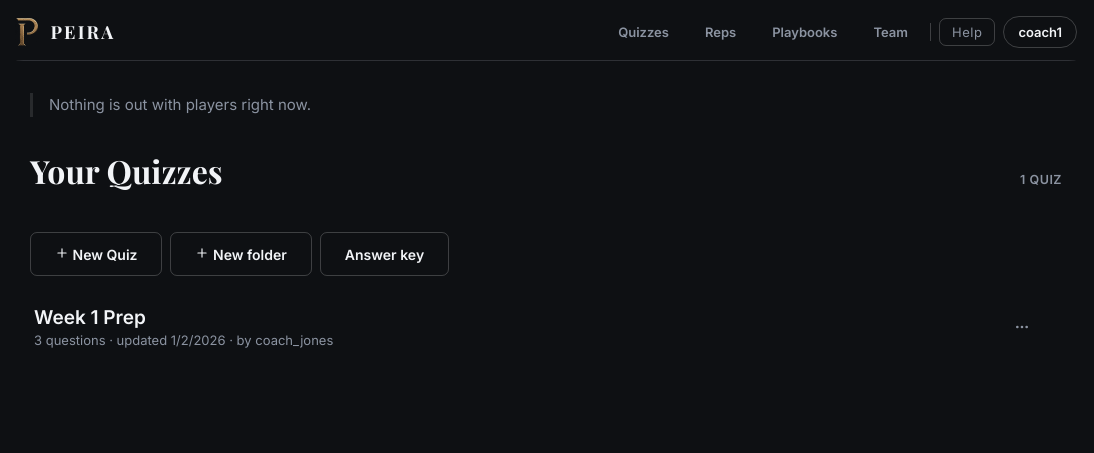
Test: DashboardPage › lets an admin edit a teammate's quiz
Check: the heading "Week 1 Prep" is shown, box x1=34 y1=306 x2=146 y2=329
Step 1. Click the button named "Actions for Week 1 Prep" → x=1022, y=327, box x1=1002 y1=307 x2=1042 y2=347
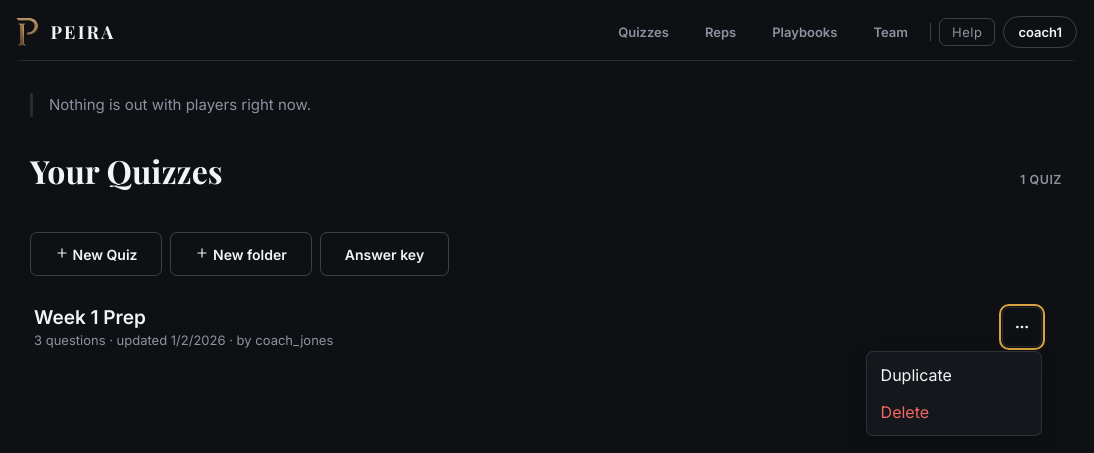
Check: the menu item "Delete" is shown, box x1=871 y1=394 x2=1037 y2=431
